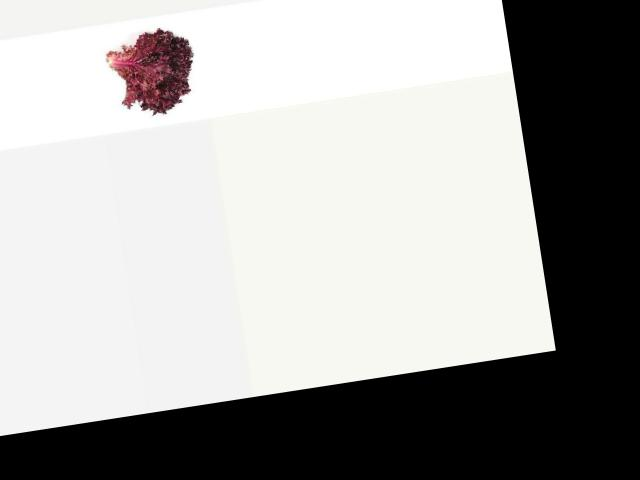lettuce: (94, 27, 206, 124)
